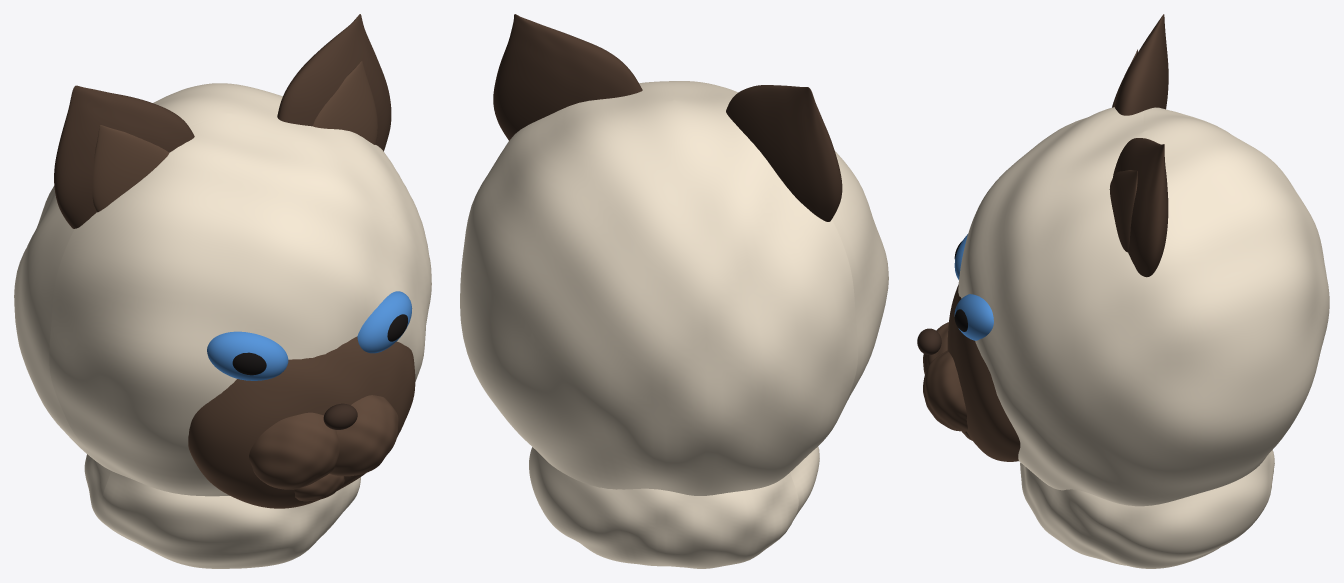
File: head-cat-siamese-full.glb
3 renders of one model, left to right at view 1: azimuth 30°, elevation 25°; view 2: azimuth 150°, elevation 25°; view 3: azimuth 270°, elevation 25°, orthographic. The views are drawn at different scales.
Parts seen in each view (by area): view 1: PM_FUR_MAIN_1, PM_FUR_SECONDARY_2, PM_FUR_MAIN_15, PM_EARS_11, PM_EARS_13, PM_FUR_SECONDARY_3, PM_FUR_SECONDARY_12, PM_FUR_SECONDARY_4, PM_FUR_SECONDARY_14, PM_EYES_6, PM_EYES_8, PM_FUR_SECONDARY_5 (+2 smaller); view 2: PM_FUR_MAIN_1, PM_FUR_MAIN_15, PM_EARS_13, PM_EARS_11; view 3: PM_FUR_MAIN_1, PM_FUR_MAIN_15, PM_FUR_SECONDARY_2, PM_EARS_13, PM_EARS_11, PM_FUR_SECONDARY_4, PM_FUR_SECONDARY_14, PM_EYES_8, PM_NOSE_10.
Part boxes in pixels (x1,y1,x2,y2): PM_FUR_MAIN_1: (14, 83, 431, 496); PM_FUR_SECONDARY_2: (188, 336, 415, 508); PM_FUR_MAIN_15: (84, 454, 360, 568); PM_EARS_11: (54, 85, 194, 228); PM_EARS_13: (277, 14, 391, 151); PM_FUR_SECONDARY_3: (249, 412, 339, 489); PM_FUR_SECONDARY_12: (92, 125, 169, 212); PM_FUR_SECONDARY_4: (329, 395, 398, 476); PM_FUR_SECONDARY_14: (313, 61, 377, 144); PM_EYES_6: (207, 331, 288, 380); PM_EYES_8: (357, 291, 412, 353); PM_FUR_SECONDARY_5: (294, 473, 344, 501); PM_FUR_MAIN_1: (460, 81, 888, 495); PM_FUR_MAIN_15: (529, 446, 819, 568); PM_EARS_13: (493, 14, 642, 140); PM_EARS_11: (726, 85, 842, 221); PM_FUR_MAIN_1: (958, 107, 1329, 506); PM_FUR_MAIN_15: (1020, 450, 1274, 568); PM_FUR_SECONDARY_2: (947, 284, 1020, 461); PM_EARS_13: (1113, 138, 1168, 277); PM_EARS_11: (1114, 14, 1168, 115); PM_FUR_SECONDARY_4: (923, 350, 967, 431); PM_FUR_SECONDARY_14: (1109, 170, 1137, 252); PM_EYES_8: (954, 294, 993, 340); PM_NOSE_10: (917, 328, 941, 354).
Size of the model in its own units: 0.0638 by 0.0842 by 0.0667.
